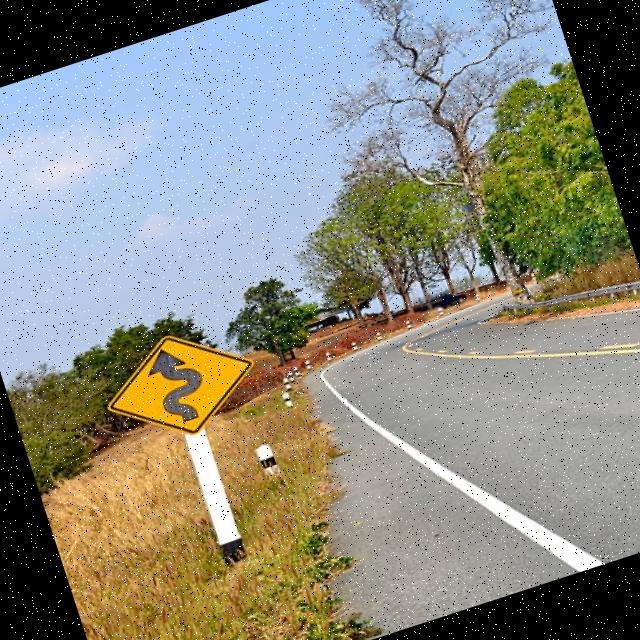left_sharp_curve: (67, 287, 280, 466)
